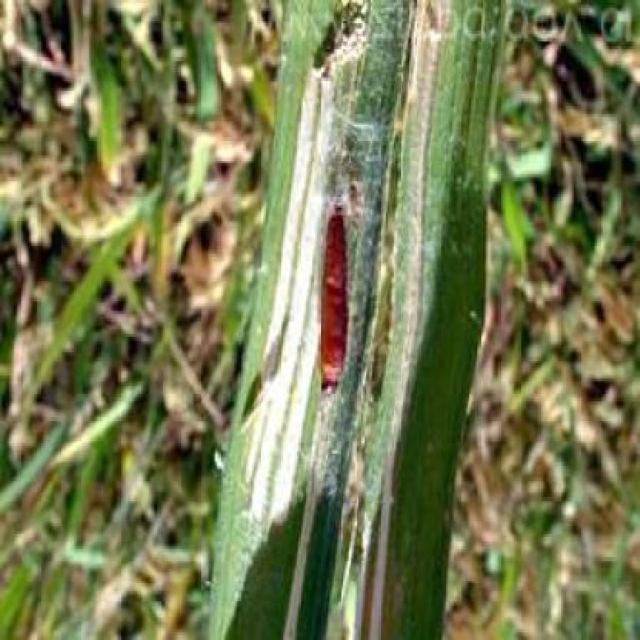leaf-folder: (304, 187, 374, 442)
